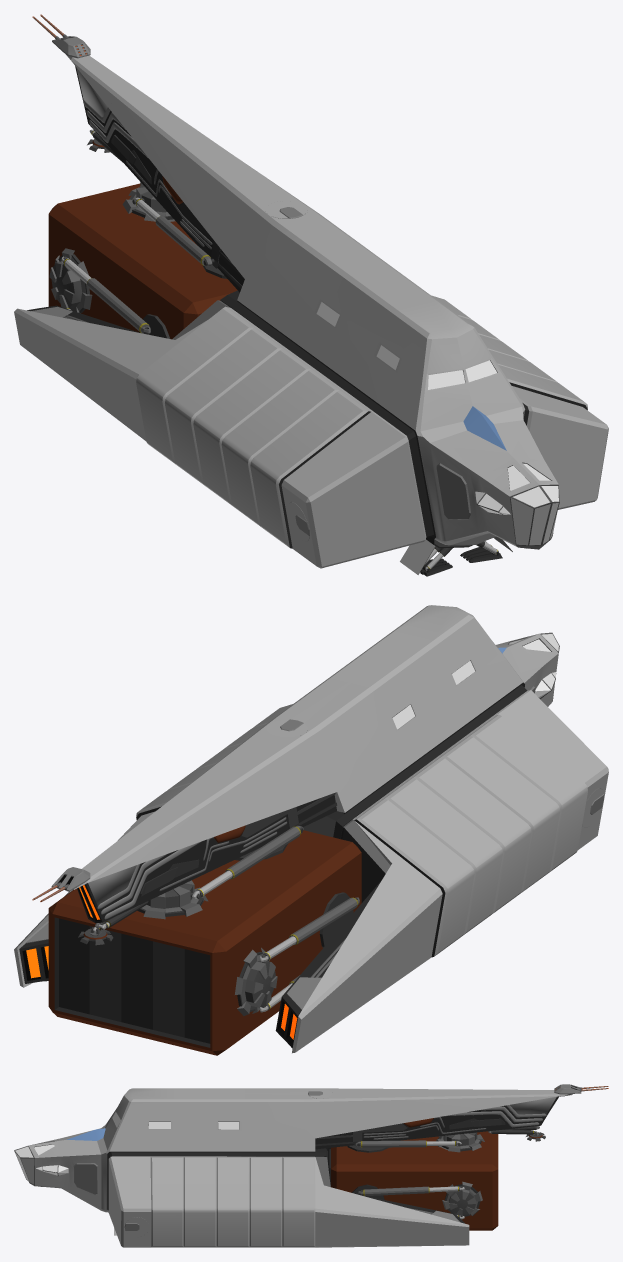
Rendered from Guild-Crash_Test_3_MerchantClass.fbx.
3 views of the same model, one above another, from view 1: azimuth 30°, elevation 25°; view 2: azimuth 150°, elevation 25°; view 3: azimuth 270°, elevation 25° (orthographic). The views are drawn at different scales.
Parts seen in each view (by area): view 1: Ship, container, WindowGlass, ContainerClaw.001, Piston botom.001, Piston botom.000, LandingGearHatch, LandingGear; view 2: Ship, container, ContainerHatchBack, ContainerClaw.001, ContainerClaw, WindowGlass, Piston botom.000, Piston botom.001, pipingMainTrustPod.007, pipingSideTrustPod.000, Circle.001, EngineGlow (+1 smaller); view 3: Ship, container, WindowGlass, ContainerClaw.001, ContainerClaw, pipingMainTrustPod.007, Piston botom.000, Piston botom.001, Circle, pipingMainTrustPod.001, DecoMainTrustPod, pipingMainTrustPod.010 (+1 smaller).
Boxes of the visible parts, left/top/right/bottom form: Ship: left=14, top=54, right=608, bottom=568; container: left=48, top=183, right=237, bottom=339; WindowGlass: left=317, top=302, right=558, bottom=545; ContainerClaw.001: left=49, top=248, right=92, bottom=312; Piston botom.001: left=87, top=278, right=150, bottom=334; Piston botom.000: left=155, top=216, right=212, bottom=266; LandingGearHatch: left=400, top=536, right=512, bottom=574; LandingGear: left=420, top=547, right=502, bottom=576; Ship: left=14, top=605, right=608, bottom=1053; container: left=48, top=830, right=361, bottom=1055; ContainerHatchBack: left=59, top=918, right=210, bottom=1043; ContainerClaw.001: left=235, top=947, right=277, bottom=1015; ContainerClaw: left=142, top=880, right=208, bottom=919; WindowGlass: left=392, top=634, right=558, bottom=729; Piston botom.000: left=225, top=825, right=303, bottom=879; Piston botom.001: left=289, top=897, right=359, bottom=984; pipingMainTrustPod.007: left=88, top=865, right=136, bottom=906; pipingSideTrustPod.000: left=25, top=923, right=321, bottom=1009; Circle.001: left=266, top=719, right=308, bottom=737; EngineGlow: left=26, top=946, right=297, bottom=1039; Ship: left=14, top=1088, right=572, bottom=1247; container: left=331, top=1131, right=498, bottom=1230; WindowGlass: left=15, top=1112, right=239, bottom=1183; ContainerClaw.001: left=442, top=1181, right=482, bottom=1216; ContainerClaw: left=436, top=1132, right=484, bottom=1152; pipingMainTrustPod.007: left=510, top=1096, right=556, bottom=1114; Piston botom.000: left=355, top=1140, right=426, bottom=1147; Piston botom.001: left=358, top=1186, right=429, bottom=1196; Circle: left=124, top=1217, right=148, bottom=1237; pipingMainTrustPod.001: left=444, top=1111, right=539, bottom=1127; DecoMainTrustPod: left=315, top=1130, right=362, bottom=1146; pipingMainTrustPod.010: left=362, top=1123, right=407, bottom=1132.
Bounding box in the file's own units: 4839 × 1692 × 1245.
Materials: 6 (4 with a texture image).
